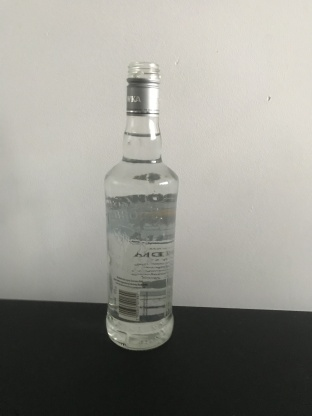nakretka: (124, 59, 162, 118)
